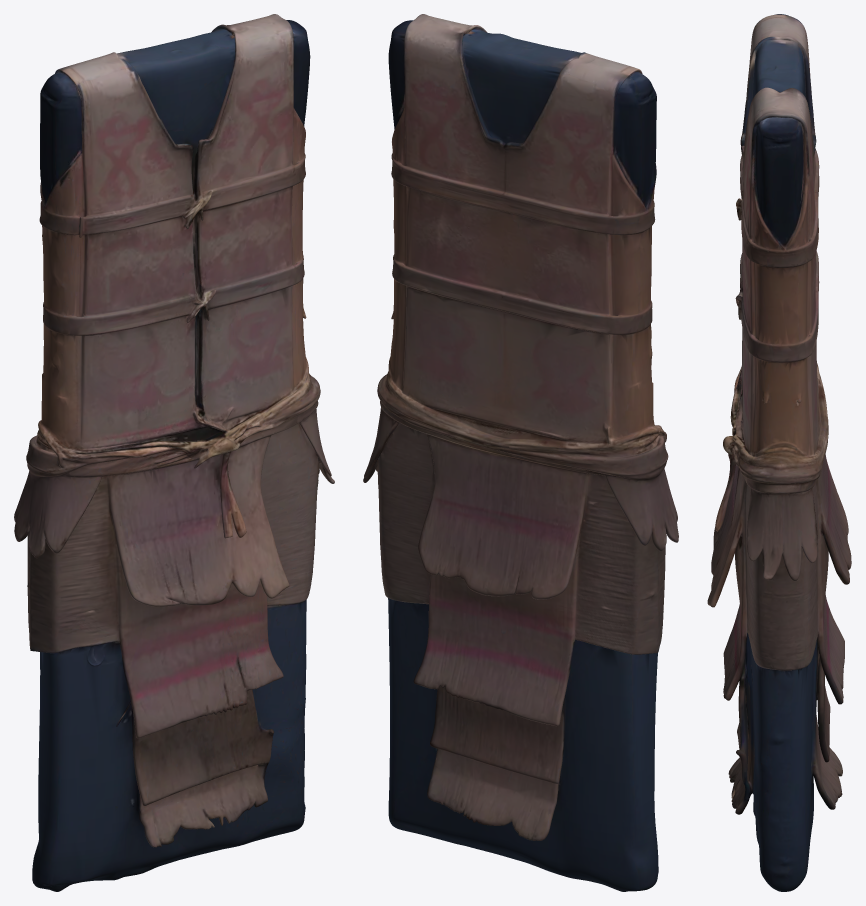
Rendered from pakaian-kapuak.glb.
3 renders of one model, left to right at view 1: azimuth 30°, elevation 25°; view 2: azimuth 150°, elevation 25°; view 3: azimuth 270°, elevation 25°, orthographic. The views are drawn at different scales.
Parts seen in each view (by area): view 1: Object_4; view 2: Object_4; view 3: Object_4.
Part boxes in pixels (x1,y1,x2,y2): Object_4: (14,14,334,891); Object_4: (363,14,678,891); Object_4: (707,14,851,891).
Bounding box in the file's own units: 0.4414 × 1.14 × 0.192.
1 material, 1 textured.
